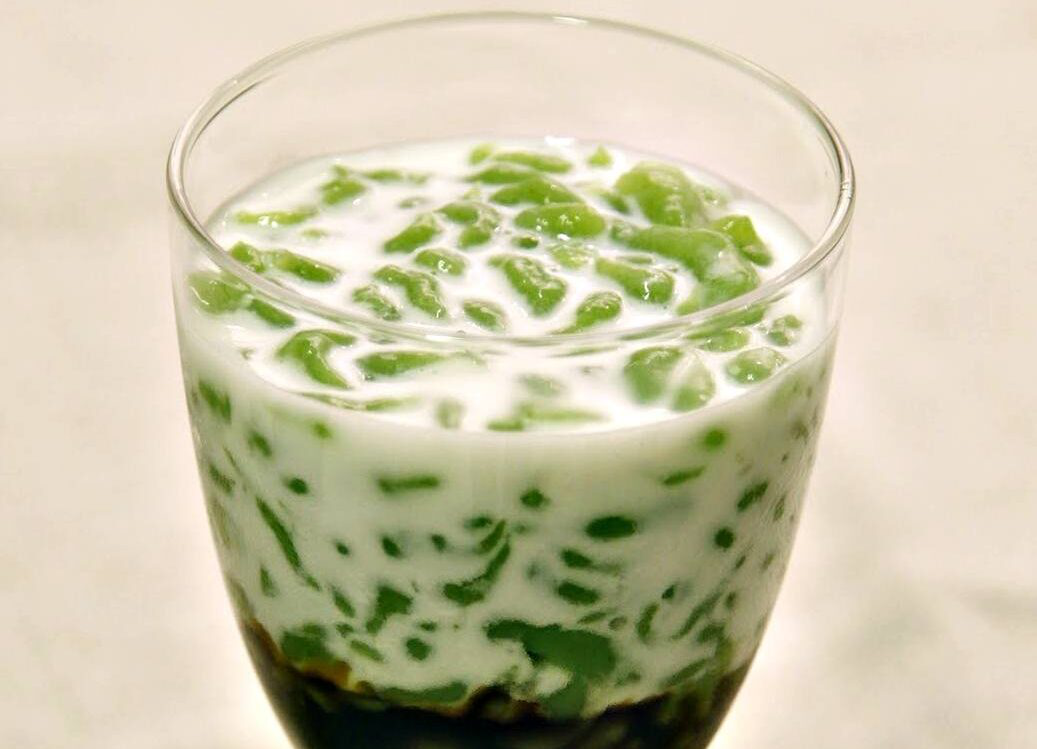Chendol: (134, 76, 823, 748)
